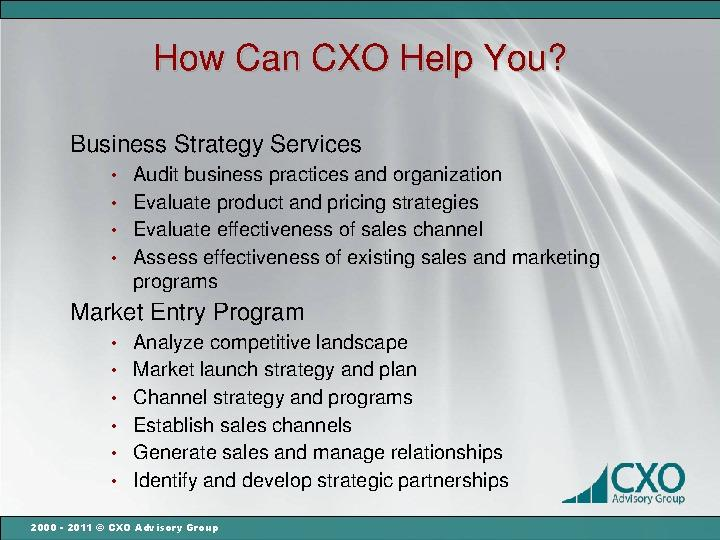paragraph: (52, 107, 617, 499)
subtitle: (70, 119, 371, 160), (68, 293, 314, 332)
title: (139, 27, 577, 91)
